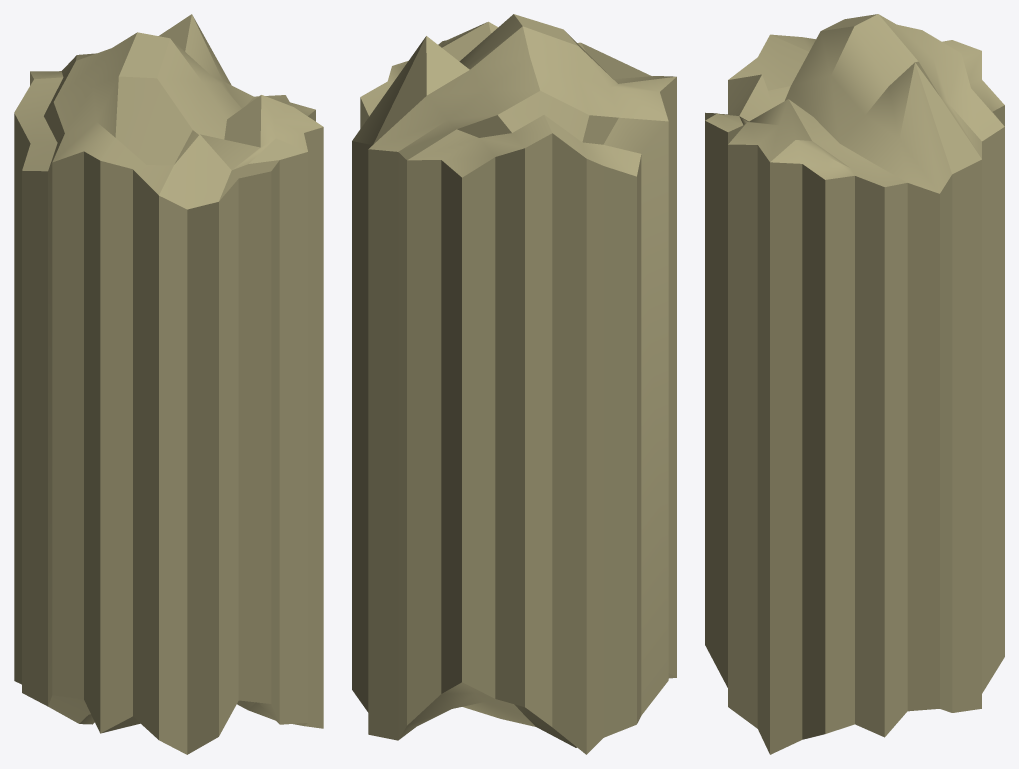
File: column_broken_middle.fbx
3 renders of one model, left to right at view 1: azimuth 30°, elevation 25°; view 2: azimuth 150°, elevation 25°; view 3: azimuth 270°, elevation 25°, orthographic. The views are drawn at different scales.
Parts seen in each view (by area): view 1: Column_Broken_Half; view 2: Column_Broken_Half; view 3: Column_Broken_Half.
Boxes of the visible parts, box(x1,y1,x2,y2) form: Column_Broken_Half: box(14, 14, 323, 754); Column_Broken_Half: box(352, 14, 676, 754); Column_Broken_Half: box(705, 14, 1004, 754).
Size of the model in its own units: 116 by 289 by 116.
